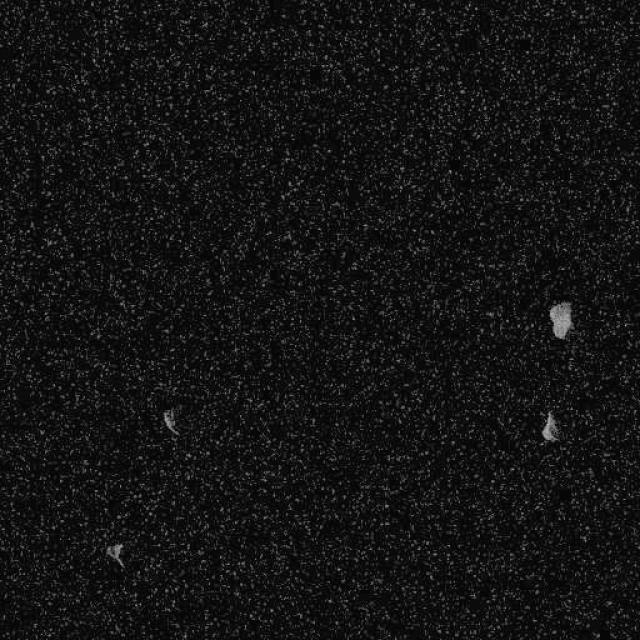D2: (548, 300, 574, 340), (540, 410, 560, 442), (104, 541, 125, 570), (161, 405, 180, 436)
